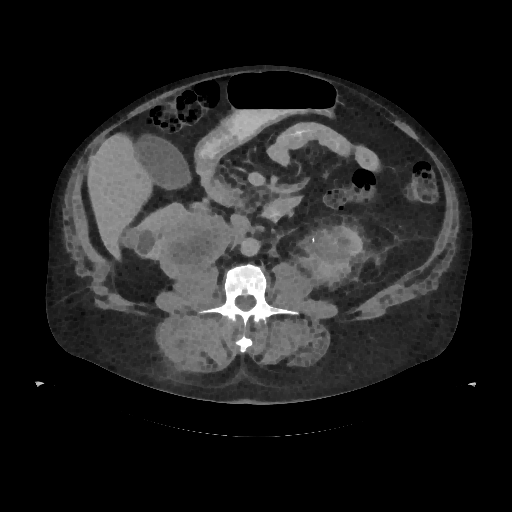Lesion: (156, 215, 232, 279)
